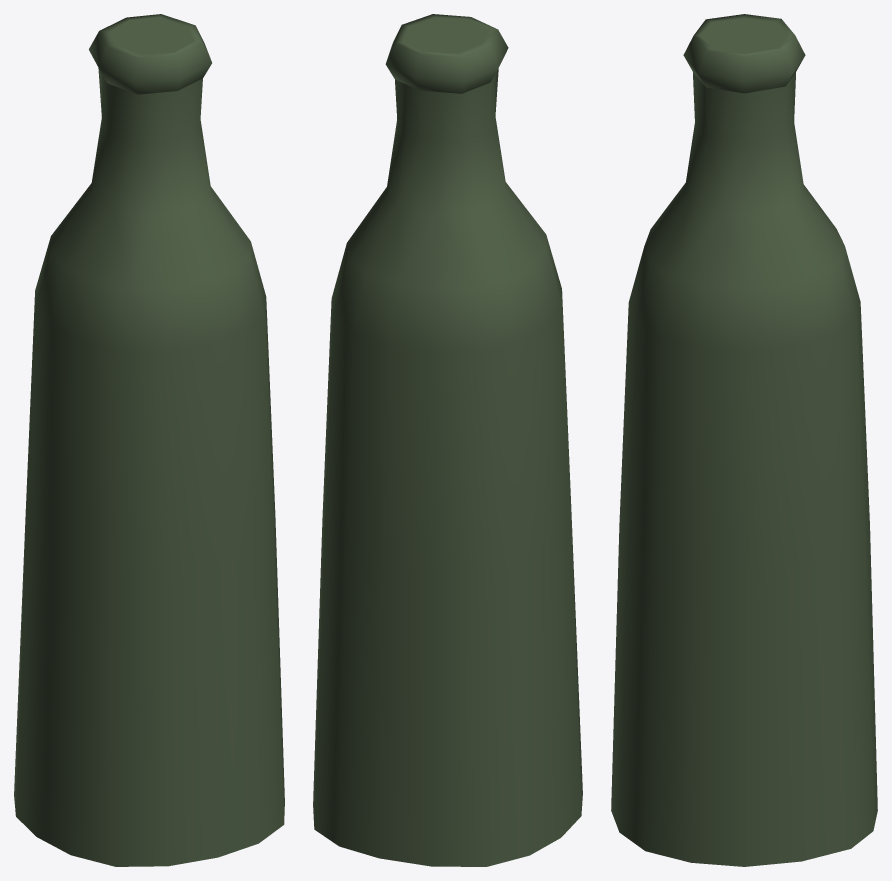
Rendered from flaske2_green.fbx.
3 renders of one model, left to right at view 1: azimuth 30°, elevation 25°; view 2: azimuth 150°, elevation 25°; view 3: azimuth 270°, elevation 25°, orthographic.
Visible parts, largest first — view 1: pCube14; view 2: pCube14; view 3: pCube14.
Boxes of the visible parts, box(x1,y1,x2,y2) form: pCube14: box(14, 14, 284, 866); pCube14: box(313, 14, 582, 866); pCube14: box(611, 14, 877, 866).
Size of the model in its own units: 1 by 3.21 by 1.
